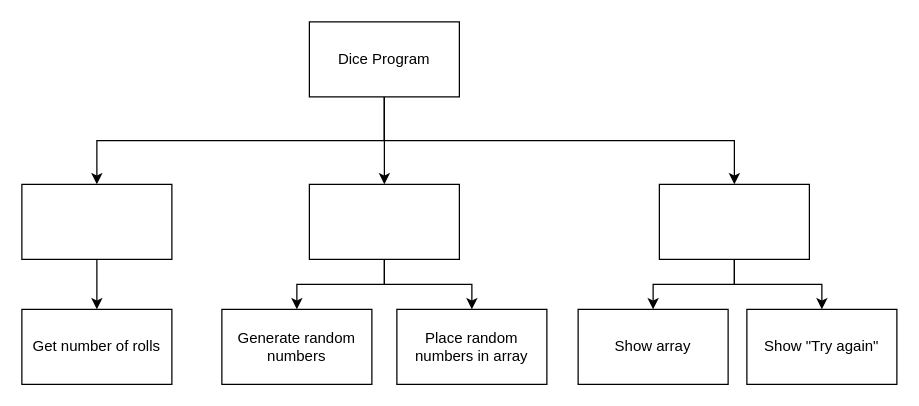
The diagram is 919 pixels wide and 406 high, and some of its shapes have lost their labels. The shapes that lost their labels are listed below. From the top down, each one's box as (x1, y1, x2, y2) in pixels, then its label:
(21, 183, 172, 259): Input
(308, 183, 459, 259): Process
(658, 183, 809, 259): Output
